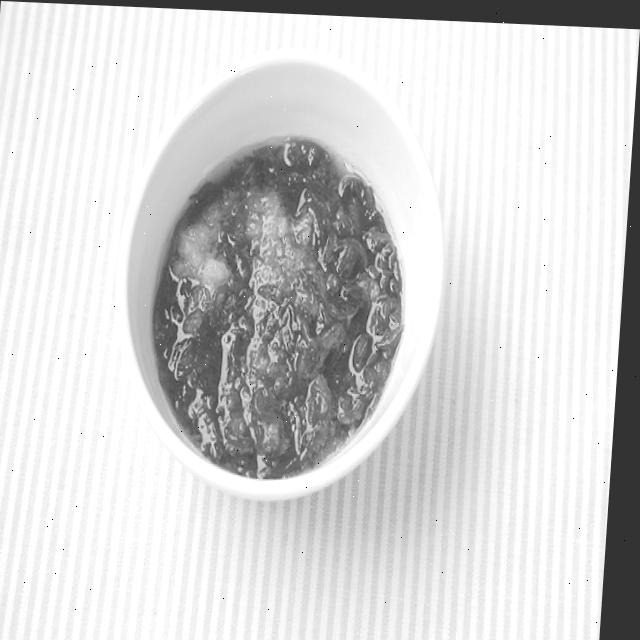蔬菜料理: (102, 54, 479, 516)
